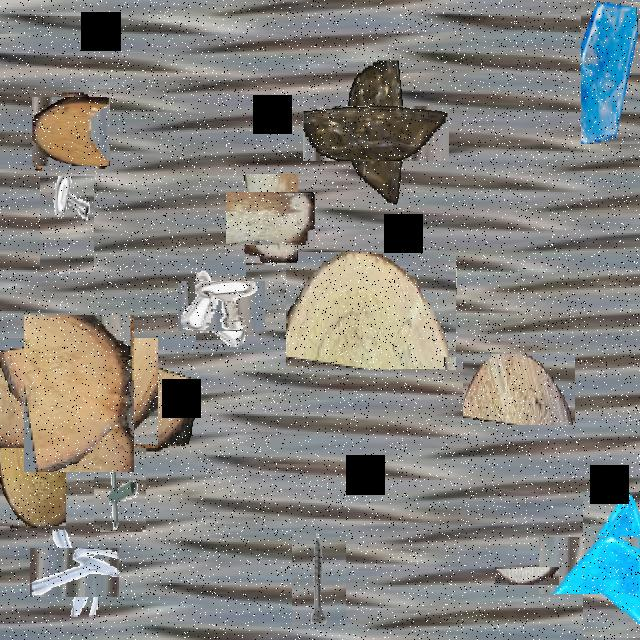glass: (581, 2, 640, 144), (560, 514, 640, 616)
metal: (292, 530, 346, 626), (40, 176, 94, 272), (94, 439, 146, 532), (187, 271, 256, 341), (40, 538, 110, 607), (0, 446, 1, 539)
plastic: (326, 83, 426, 184)
wood: (286, 252, 456, 370), (12, 326, 146, 460), (54, 359, 198, 452), (463, 354, 575, 425), (34, 94, 108, 168), (0, 444, 66, 526), (235, 183, 307, 254), (495, 567, 559, 585)
